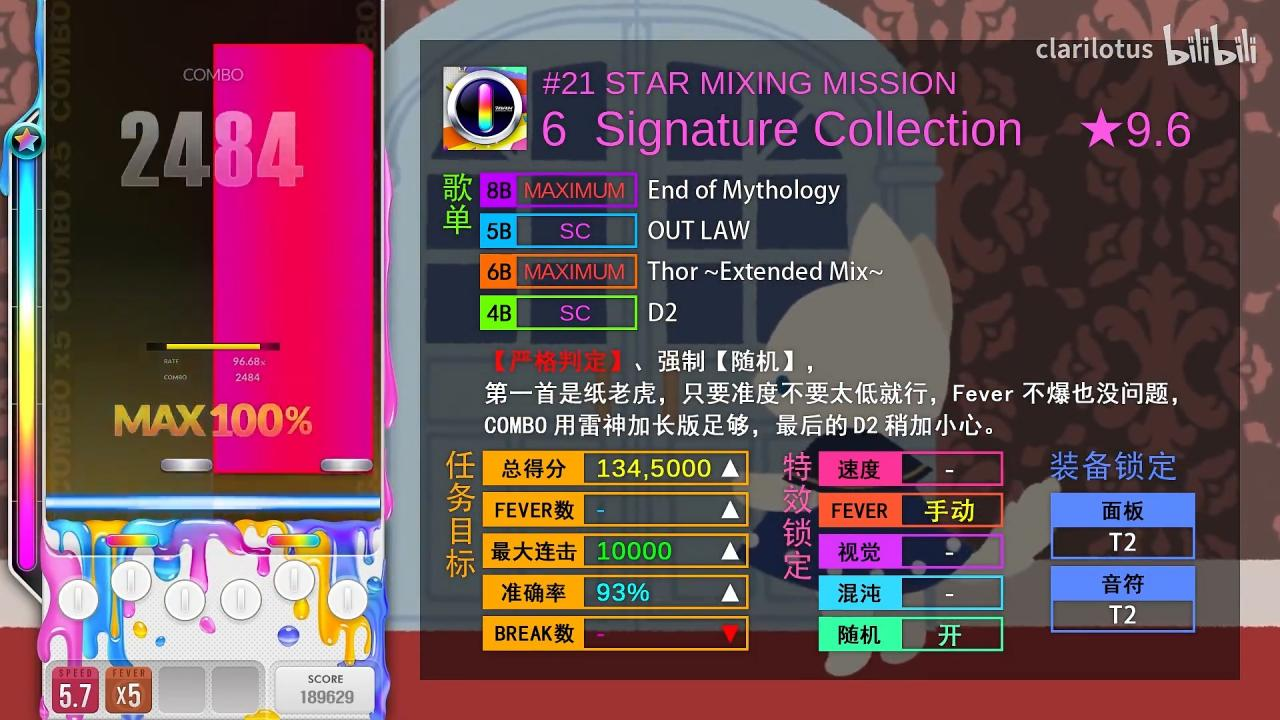note: (320, 457, 373, 472), (161, 458, 213, 472)
xend: (213, 43, 374, 59)
xstart: (213, 455, 374, 475)
